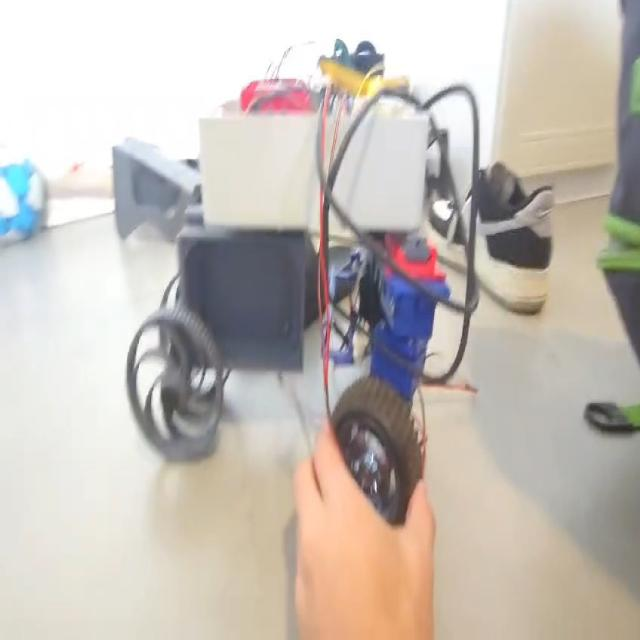Robot: (121, 34, 453, 522)
